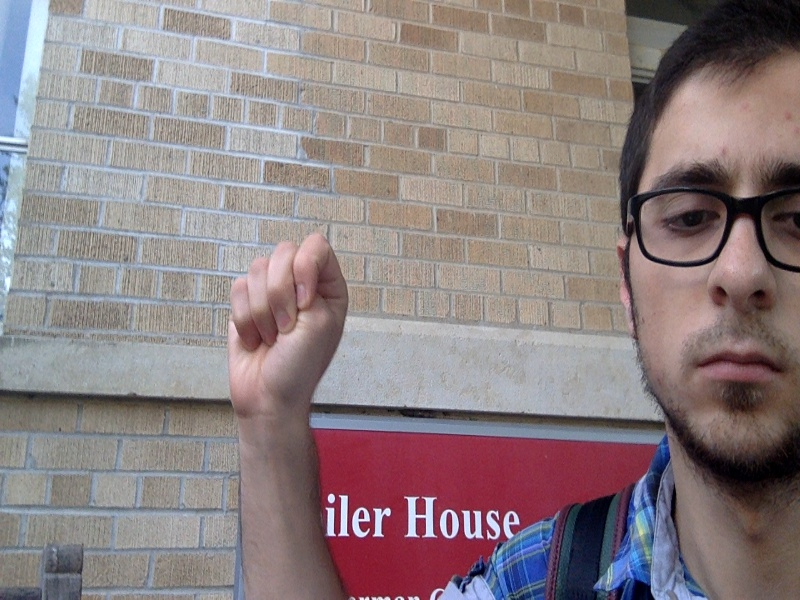0-hand: (221, 235, 348, 421)
